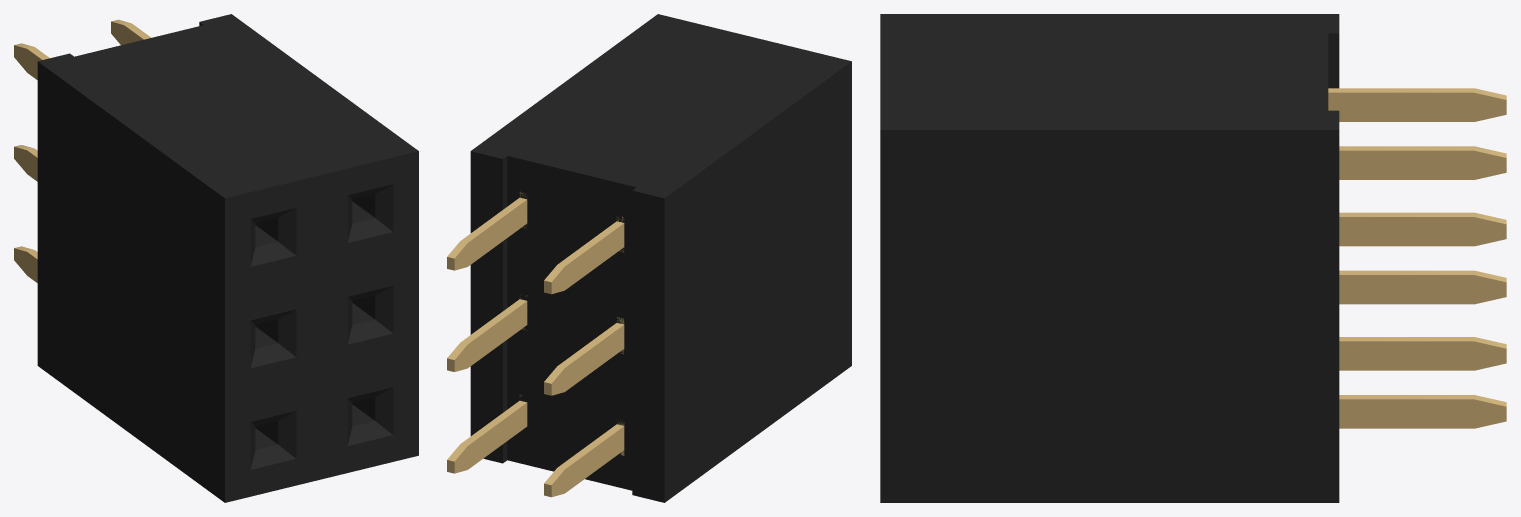
Rendered from socket-2x03.glb.
3 renders of one model, left to right at view 1: azimuth 30°, elevation 25°; view 2: azimuth 150°, elevation 25°; view 3: azimuth 270°, elevation 25°, orthographic. The views are drawn at different scales.
Parts seen in each view (by area): view 1: IC-BODY-EPOXY-04, PIN-02 (×4); view 2: IC-BODY-EPOXY-04, PIN-02 (×7); view 3: IC-BODY-EPOXY-04, PIN-02 (×7).
Part boxes in pixels (box(x1,y1,x2,y2)): IC-BODY-EPOXY-04: box(37, 14, 418, 502); PIN-02 (×4): box(14, 19, 151, 282); IC-BODY-EPOXY-04: box(470, 14, 851, 502); PIN-02 (×7): box(447, 191, 624, 497); IC-BODY-EPOXY-04: box(880, 14, 1339, 502); PIN-02 (×7): box(1328, 88, 1506, 428).
Size of the model in its own units: 5.08 by 7.62 by 11.6.
